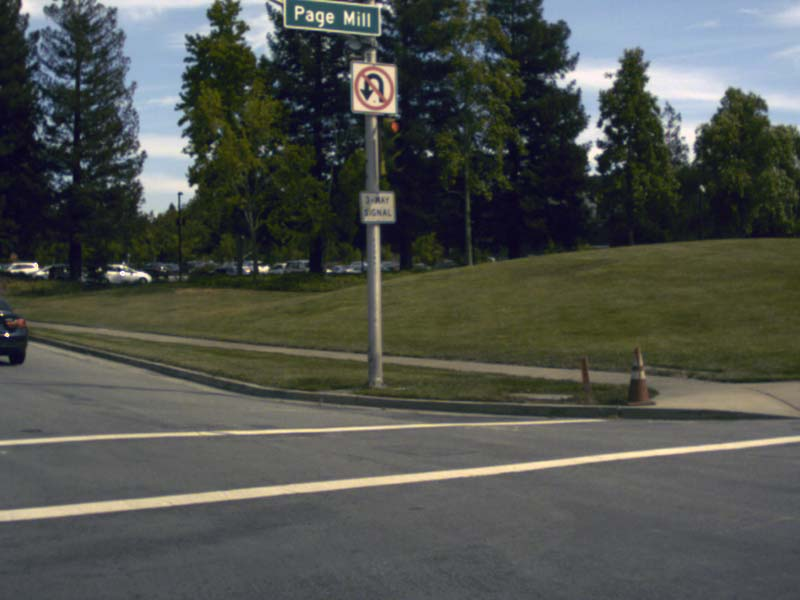Red: (378, 116, 406, 175)
